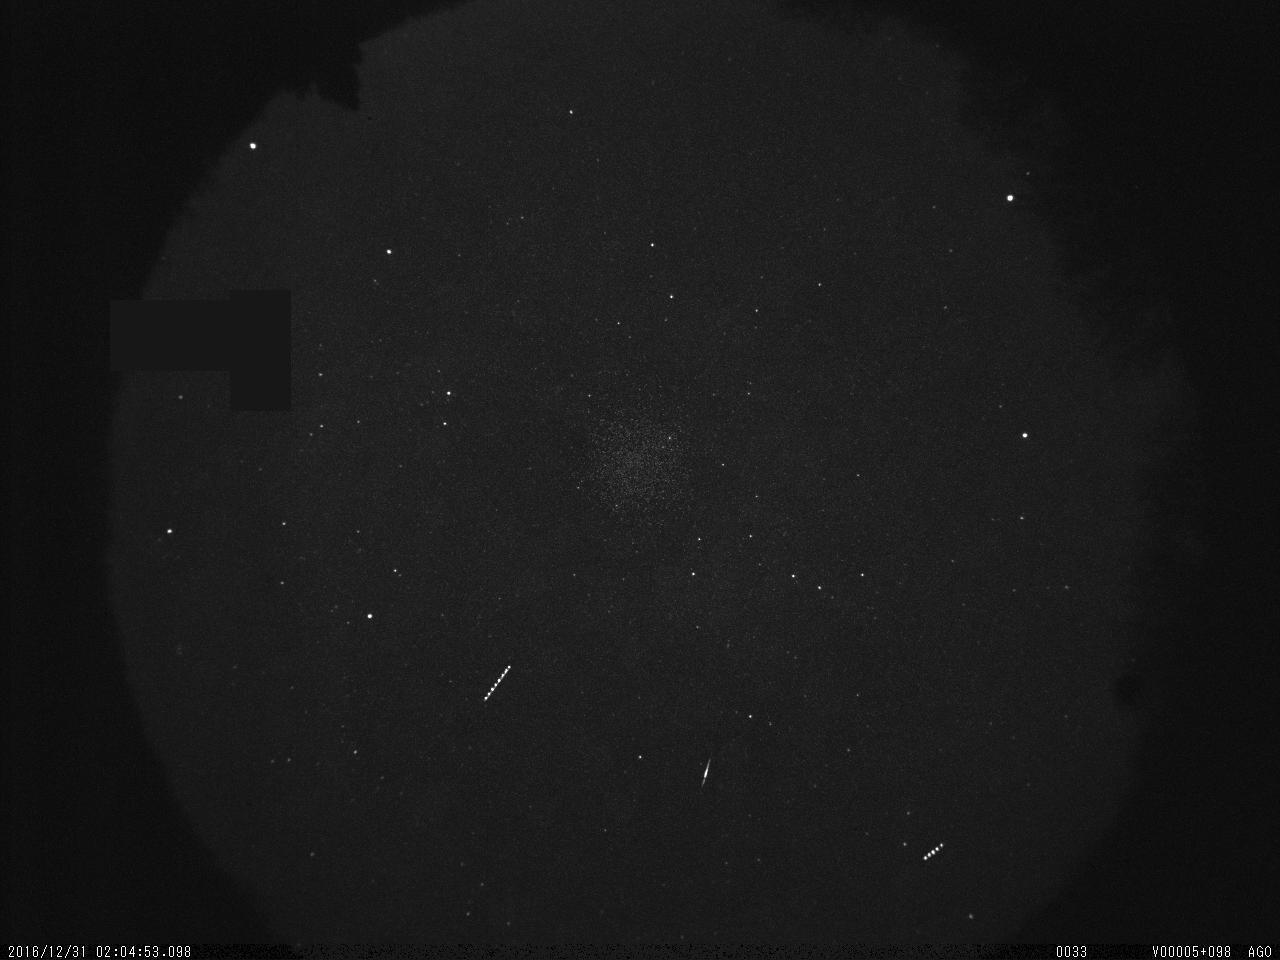Meteor: (699, 754, 712, 786)
